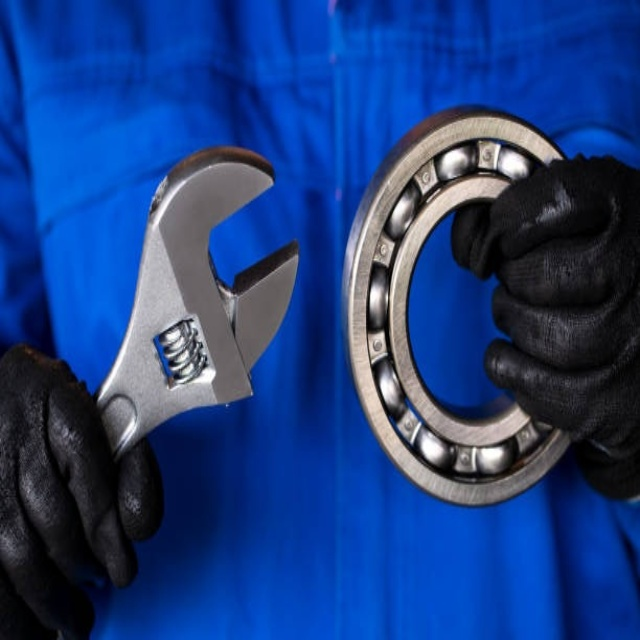Guantes: (451, 150, 640, 500), (2, 342, 166, 635)
